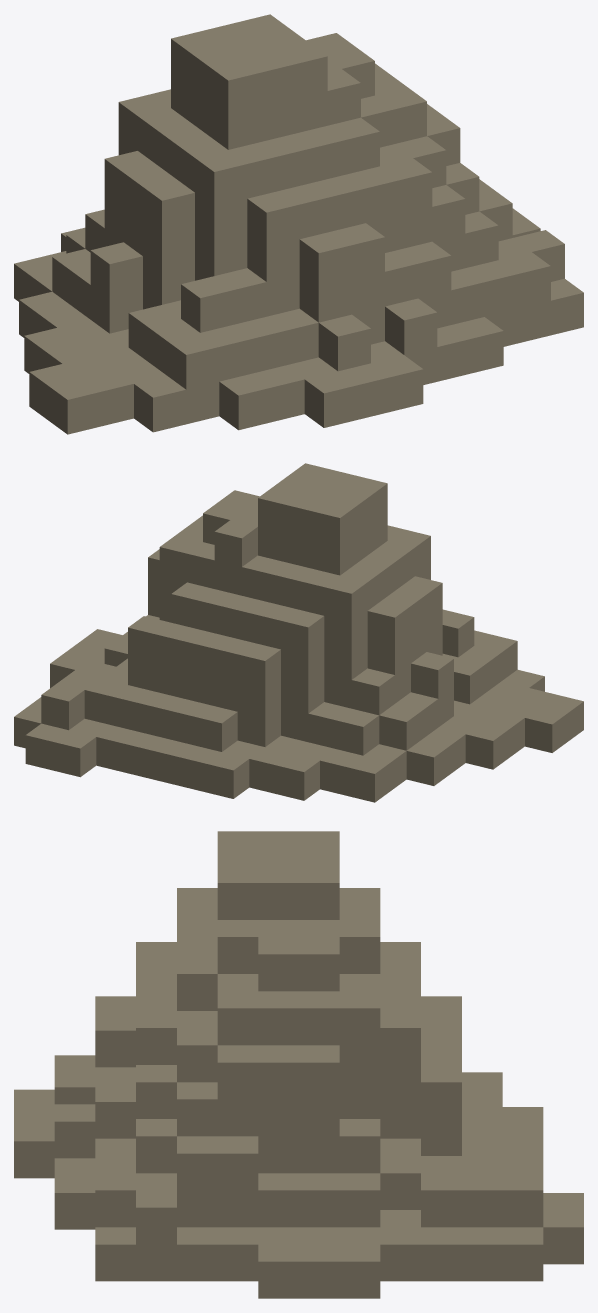
Rendered from s5.vox.obj.
3 views of the same model, one above another, from view 1: azimuth 30°, elevation 25°; view 2: azimuth 150°, elevation 25°; view 3: azimuth 270°, elevation 25° (orthographic). The views are drawn at different scales.
Bounding box in the file's own units: 1.6 × 0.8 × 1.4.
1 material, 1 textured.
